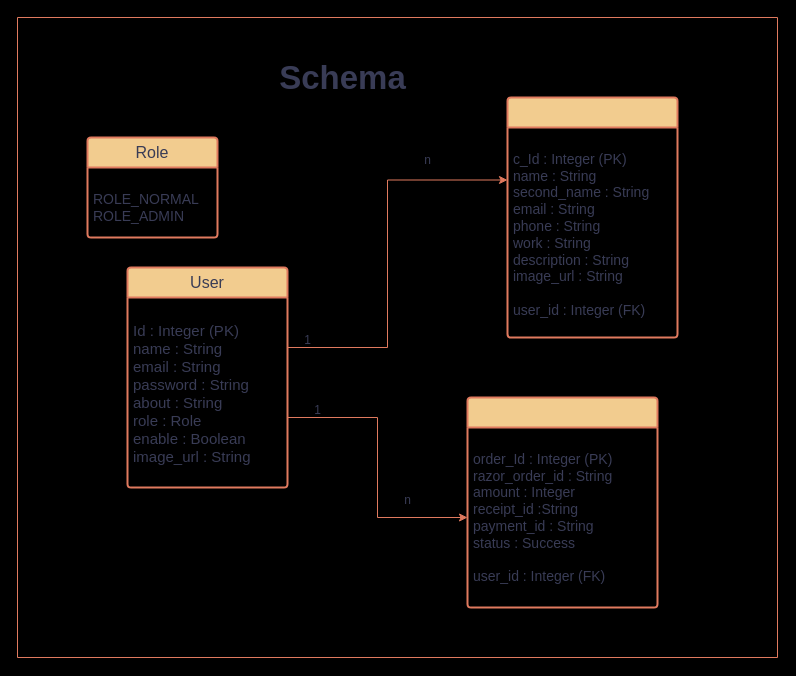
This 796x676 diagram has some shape labels left out. The shapes that lost their labels are listed below. From the top down, each one's box as (x1, y1, x2, y2) in pixels, then its label:
(506, 96, 678, 338): Contact
(466, 396, 658, 608): MyOrder
